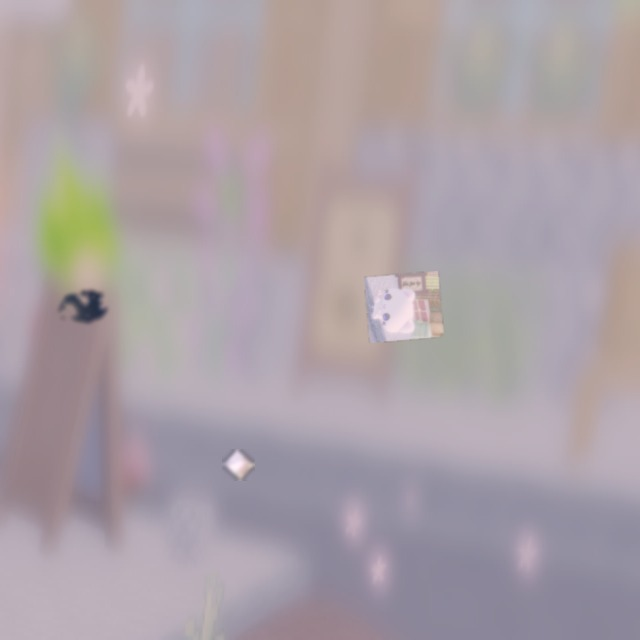urso_branco: (364, 271, 444, 343), (222, 449, 255, 481)
urso_preto: (51, 283, 116, 331)
